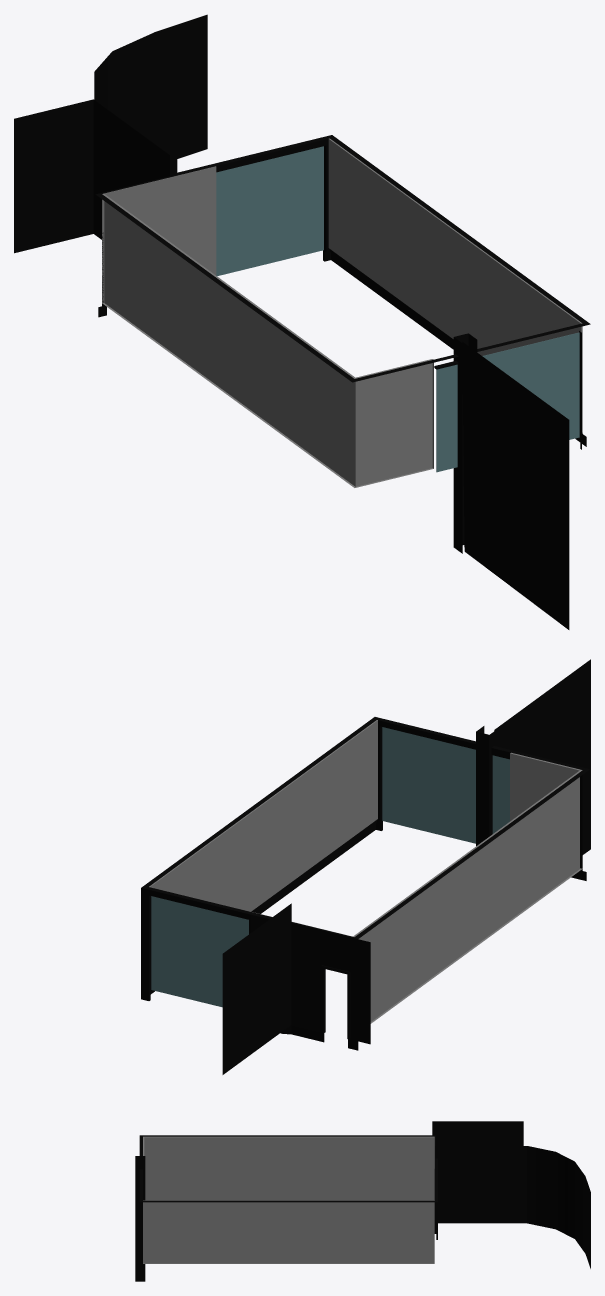
The model's file is Hopkins_Walls.obj.
The picture shows the model from 3 angles, top to bottom: view 1: azimuth 30°, elevation 25°; view 2: azimuth 150°, elevation 25°; view 3: azimuth 270°, elevation 25°; orthographic projection. The views are drawn at different scales.
Parts seen in each view (by area): view 1: walls polySurface11, walls pCube15, walls polySurface9, walls pCube155, pCube14 walls, walls polySurface16, walls pCube13, walls polySurface35, walls pCube156, walls polySurface34, walls pCube1, walls polySurface36 (+1 smaller); view 2: walls polySurface11, walls polySurface9, walls pCube13, walls pCube15, walls polySurface34, pCube14 walls, walls pCube155, walls polySurface36, walls polySurface35, walls polySurface33, walls pCube1, walls pCube156 (+1 smaller); view 3: walls polySurface11, walls polySurface9, walls pCube15, walls pCube1, walls polySurface36, walls polySurface35, walls polySurface34.
Part boxes in pixels (x1,y1,x2,y2): walls polySurface11: (102, 193, 433, 487); walls pCube15: (14, 14, 207, 253); walls polySurface9: (328, 138, 582, 432); walls pCube155: (462, 342, 569, 629); pCube14 walls: (216, 146, 323, 276); walls polySurface16: (102, 166, 216, 302); walls pCube13: (482, 332, 579, 439); walls polySurface35: (330, 135, 590, 446); walls pCube156: (436, 364, 457, 472); walls polySurface34: (97, 135, 331, 317); walls pCube1: (453, 333, 477, 553); walls polySurface36: (95, 194, 354, 382); walls polySurface11: (353, 752, 582, 1023); walls polySurface9: (149, 720, 377, 911); walls pCube13: (382, 727, 475, 843); walls pCube15: (222, 903, 291, 1074); walls polySurface34: (141, 887, 358, 1050); pCube14 walls: (151, 896, 248, 1007); walls pCube155: (494, 659, 590, 854); walls polySurface36: (355, 769, 589, 1044); walls polySurface35: (141, 717, 376, 994); walls polySurface33: (375, 717, 589, 880); walls pCube1: (476, 726, 497, 845); walls pCube156: (492, 755, 509, 833); walls polySurface11: (143, 1136, 434, 1200); walls polySurface9: (143, 1200, 434, 1263); walls pCube15: (432, 1121, 590, 1268); walls pCube1: (135, 1156, 145, 1281); walls polySurface36: (140, 1135, 435, 1200); walls polySurface35: (140, 1201, 437, 1202); walls polySurface34: (434, 1136, 437, 1239).
Bounding box in the file's own units: 8707 × 6903 × 28965.
